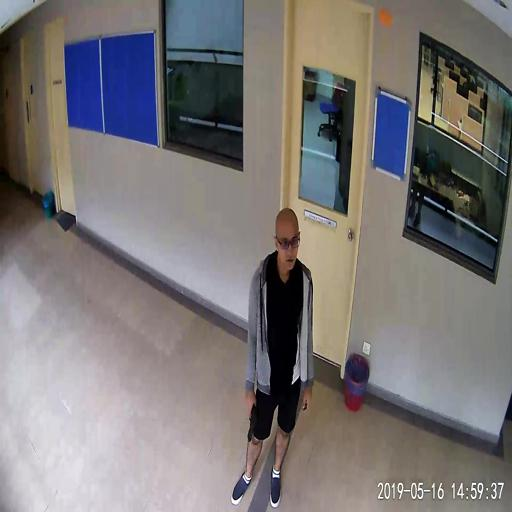pistol: (245, 397, 257, 440)
